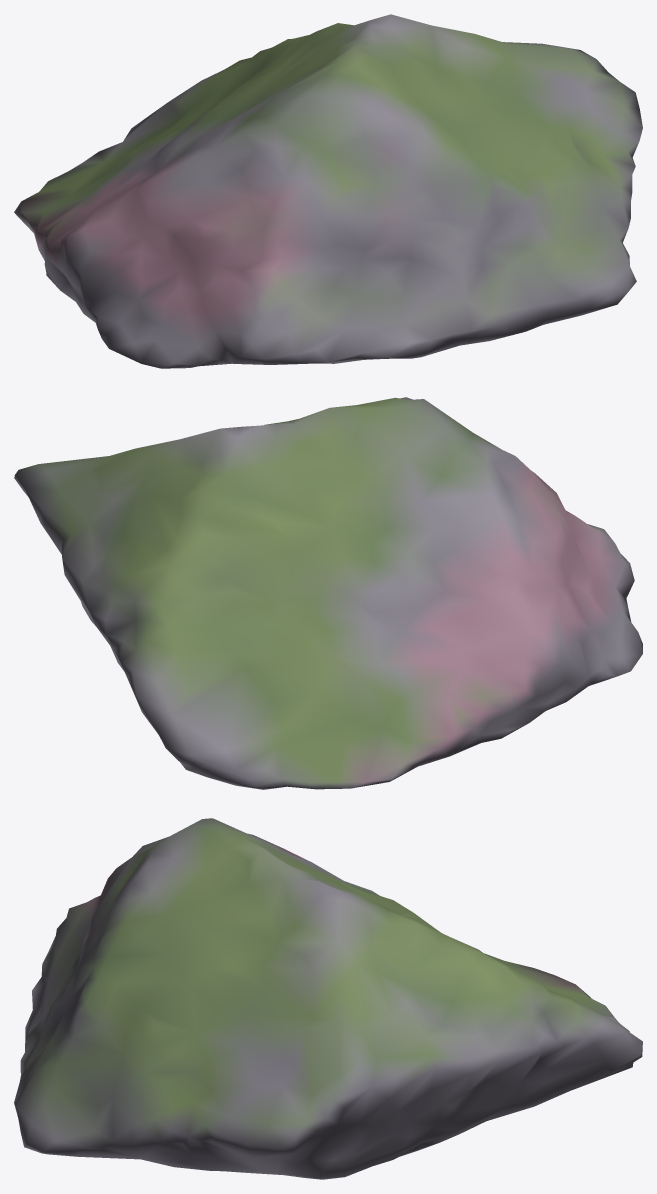
File: boulder-2.glb
3 views of the same model, one above another, from view 1: azimuth 30°, elevation 25°; view 2: azimuth 150°, elevation 25°; view 3: azimuth 270°, elevation 25° (orthographic). The views are drawn at different scales.
Parts seen in each view (by area): view 1: Boulder_2; view 2: Boulder_2; view 3: Boulder_2.
Boxes of the visible parts, x1,y1,x2,y2 form: Boulder_2: (14,14,642,368); Boulder_2: (14,397,642,789); Boulder_2: (14,818,642,1179).
Size of the model in its own units: 0.9356 by 0.3676 by 0.8529.
